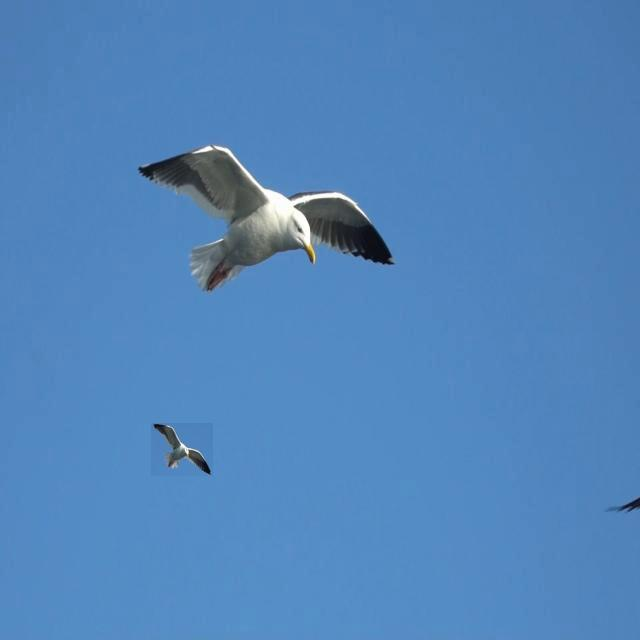bird: (138, 144, 402, 296), (152, 424, 212, 473), (603, 492, 640, 519)
